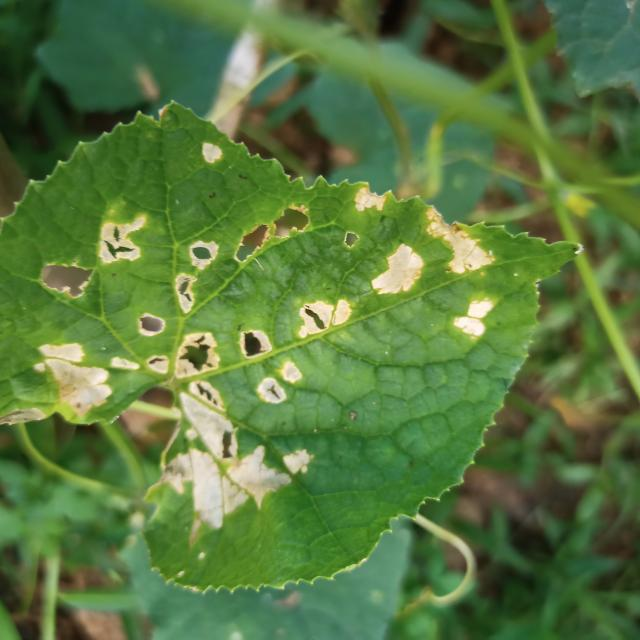disease_cucumber: (31, 212, 354, 542), (233, 152, 511, 342), (193, 141, 230, 170)
